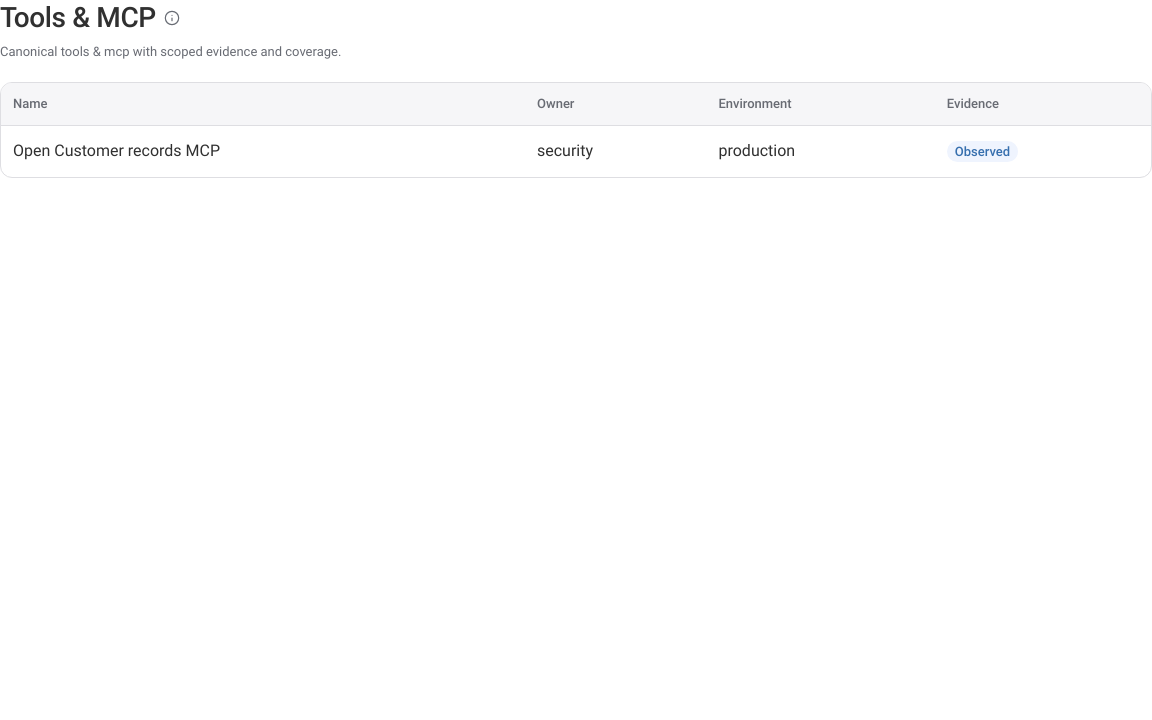
Test: M4 Agent Security product surfaces › renders inventory details, high-signal findings, bounded paths, and stale Home state
Later steps or results of the test are not shown.
Expected: the heading "Tools & MCP" is shown, [0,0,156,36]
Click the button "Open Customer records MCP" at (116, 151), box [13,141,220,161]
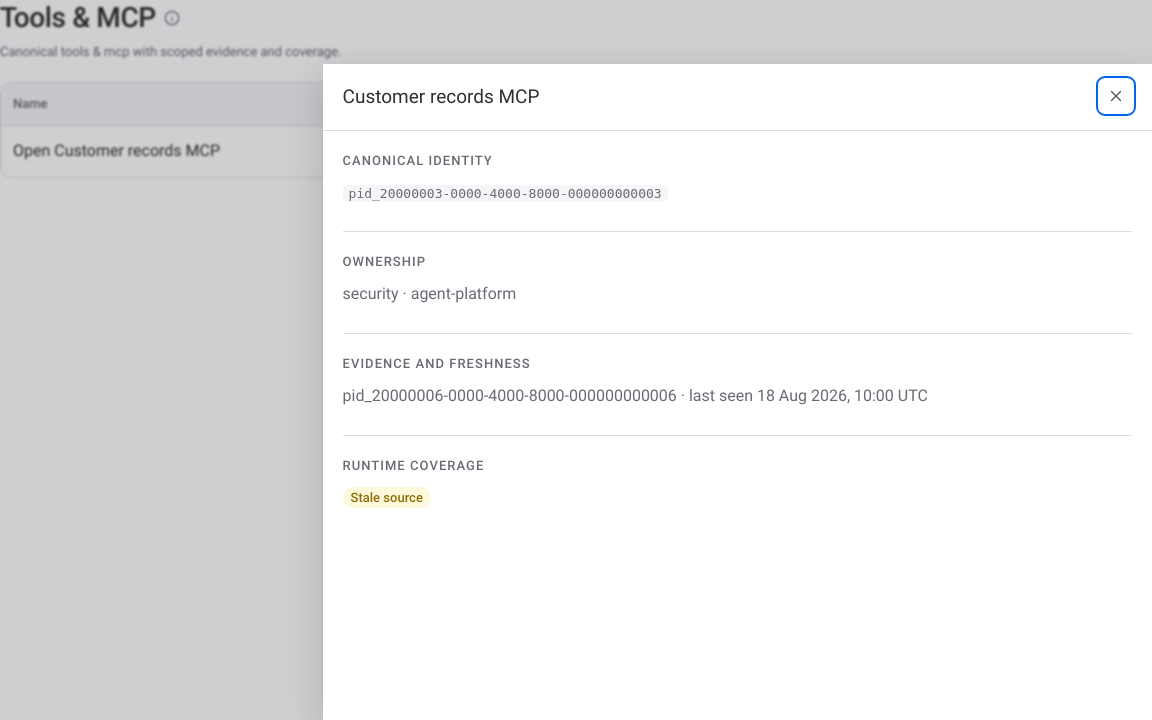
Expected: the heading "Evidence and freshness" is shown, [343,333,1132,373]
